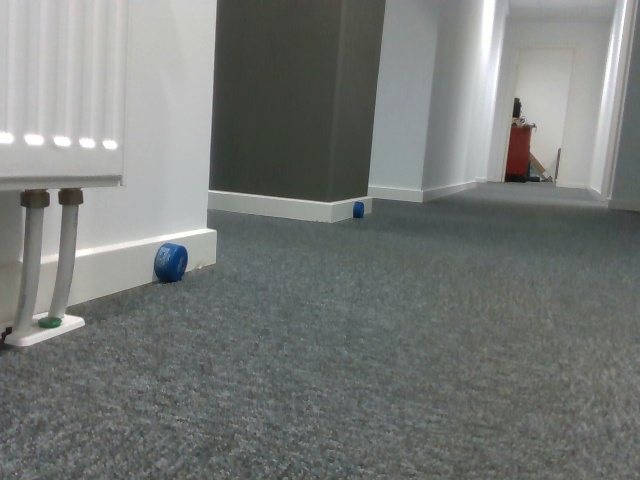alfa: (151, 239, 189, 283), (351, 199, 366, 221)
